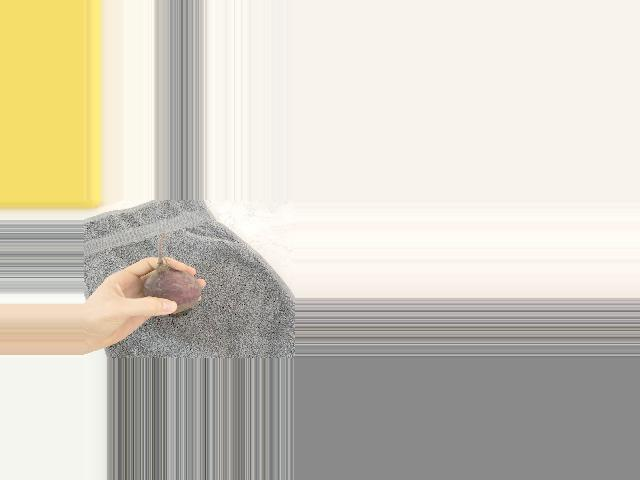beet: (143, 231, 201, 318)
